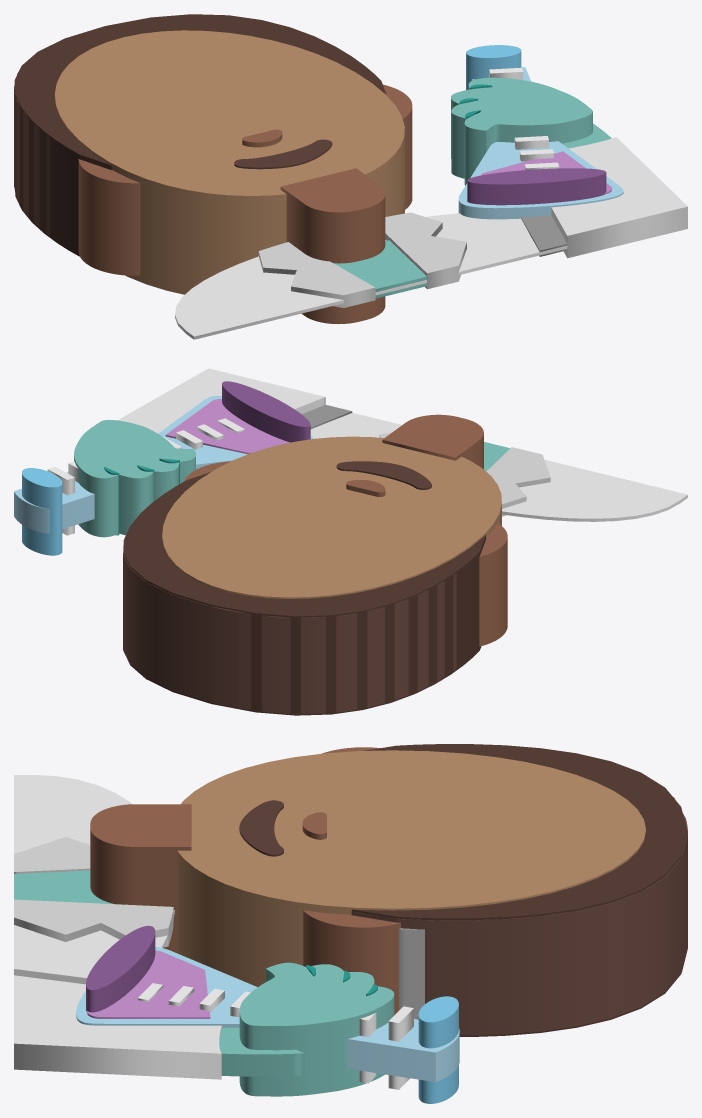
File: emoji_u1f468_1f3fd_200d_1f52c.glb
3 renders of one model, top to bottom at view 1: azimuth 30°, elevation 25°; view 2: azimuth 150°, elevation 25°; view 3: azimuth 270°, elevation 25°, orthographic. The views are drawn at different scales.
Parts seen in each view (by area): view 1: emoji_u1f468_1f3fd_200d_1f52c; view 2: emoji_u1f468_1f3fd_200d_1f52c; view 3: emoji_u1f468_1f3fd_200d_1f52c.
Part boxes in pixels (x1,y1,x2,y2): emoji_u1f468_1f3fd_200d_1f52c: [14, 14, 687, 339]; emoji_u1f468_1f3fd_200d_1f52c: [14, 368, 687, 715]; emoji_u1f468_1f3fd_200d_1f52c: [14, 744, 687, 1103].
Bounding box in the file's own units: 0.0336 × 0.0072 × 0.0329.
